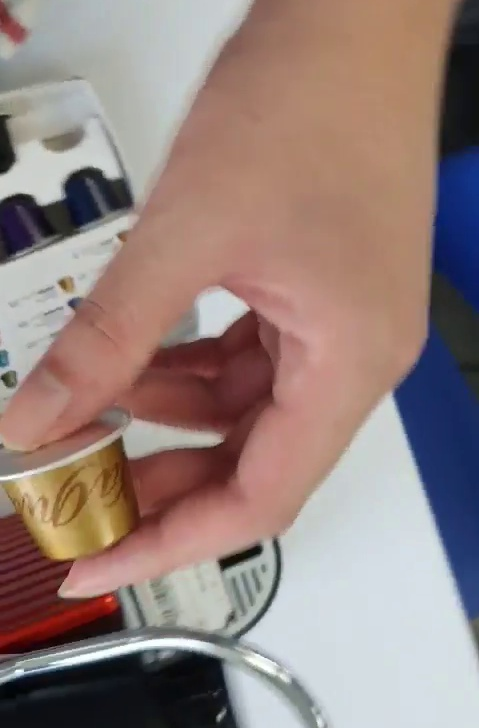capsule_9: (1, 405, 152, 560)
